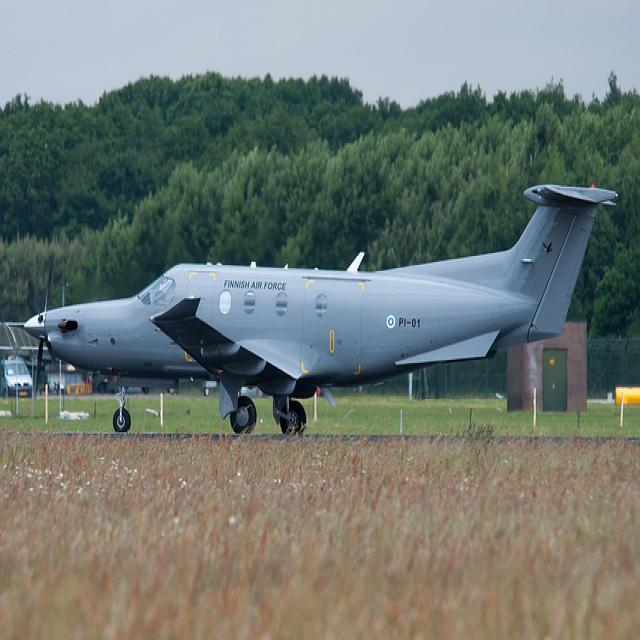Vehicle: (0, 360, 33, 398)
